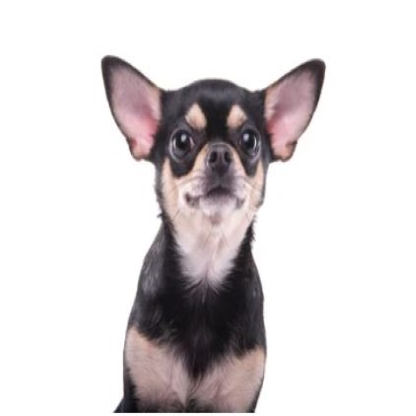chihuahua: (98, 53, 333, 413)
